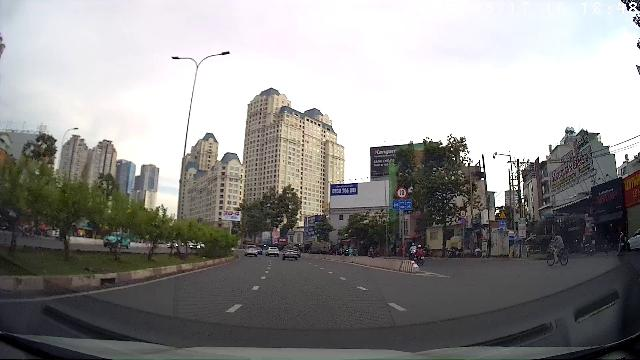127-toc-do-toi-da-70: (395, 187, 408, 199)
